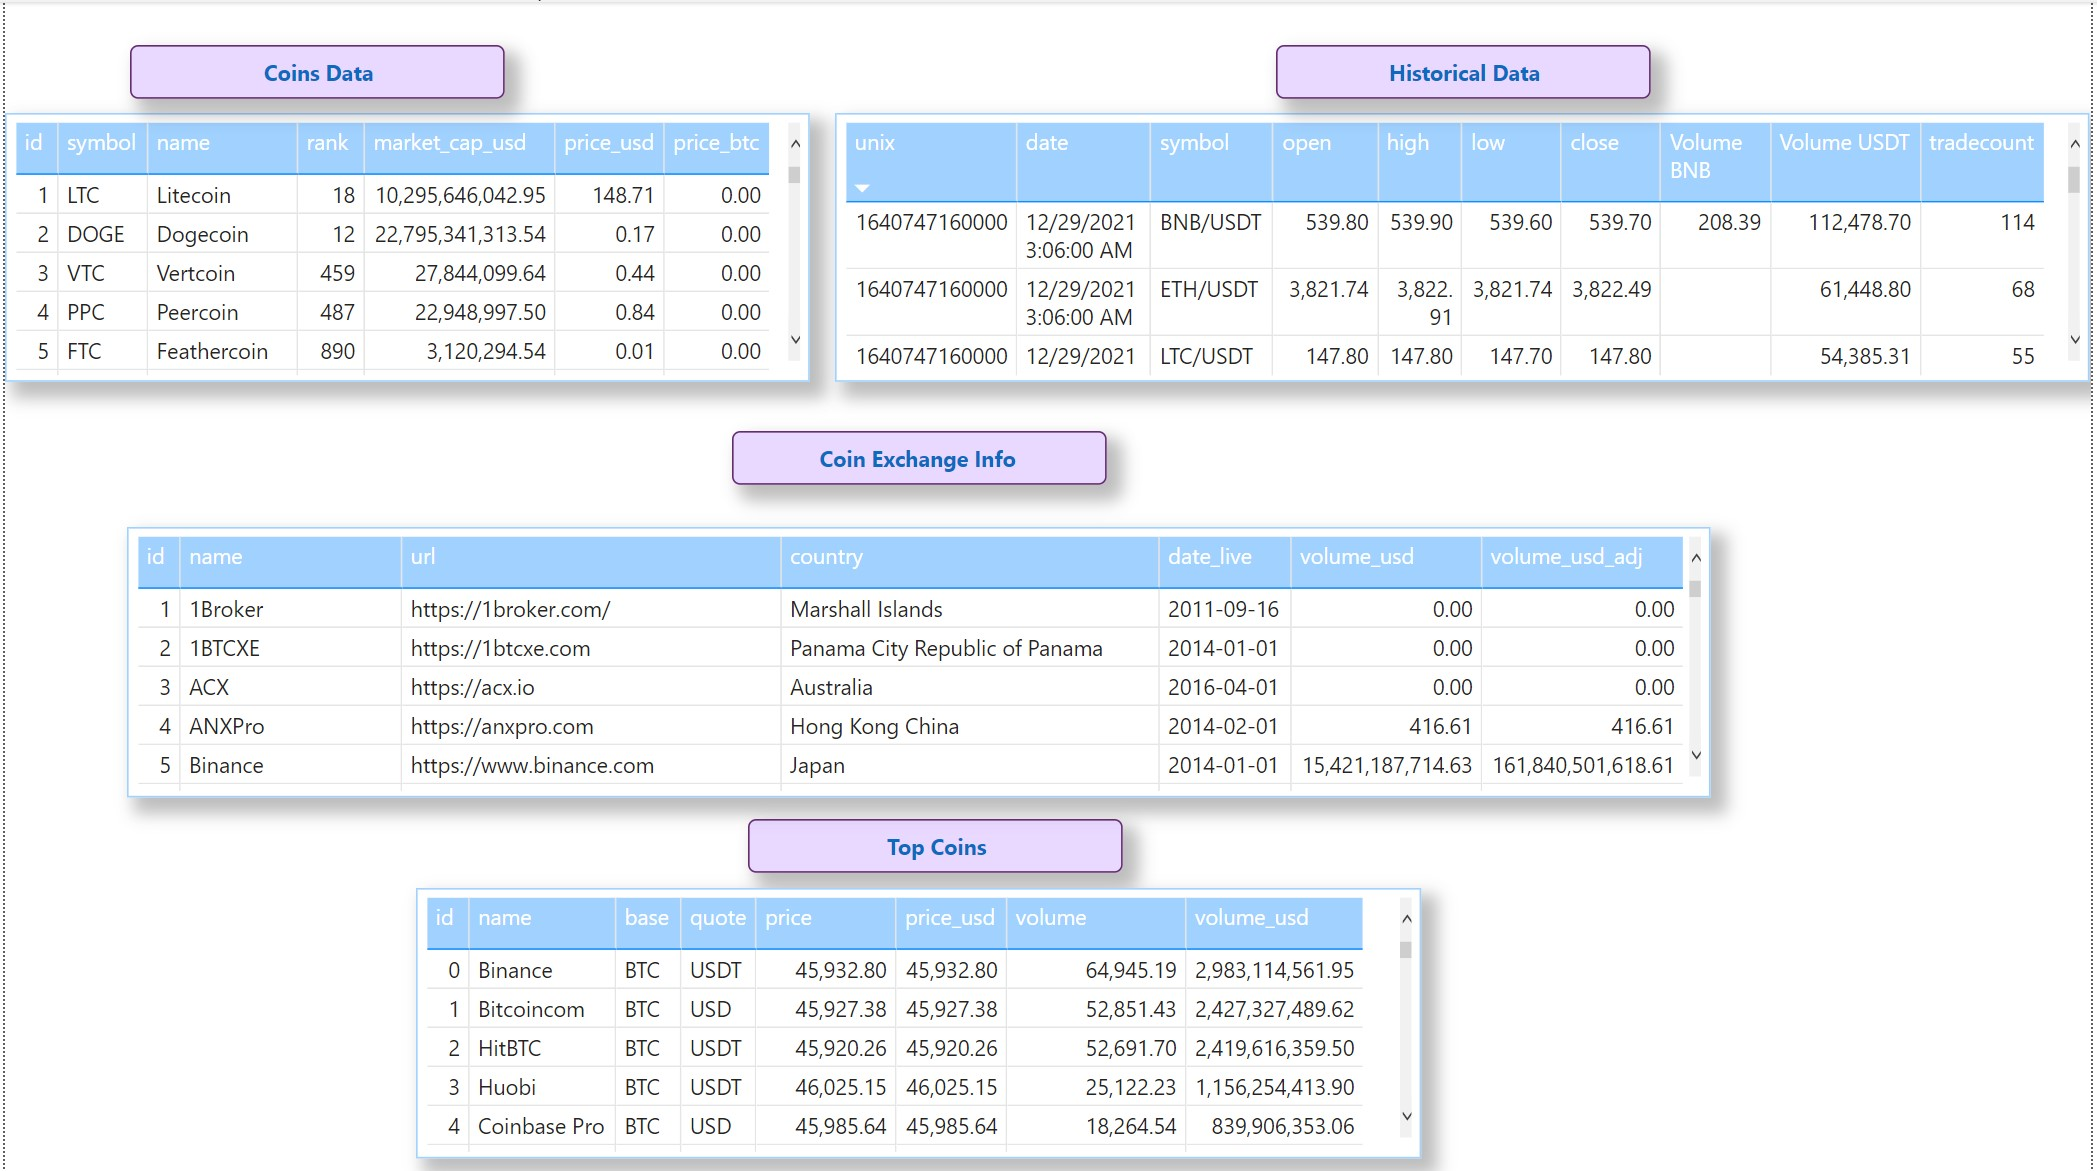

The dashboard page shown, as its layout file describes it:
{"tool":"powerbi","page":{"name":"Page 1","canvas":[1280,720],"ordinal":0},"visuals":[{"type":"tableEx","fields":{"Values":["coins_data.id","coins_data.symbol","coins_data.name","coins_data.rank","coins_data.market_cap_usd","coins_data.price_usd","coins_data.price_btc"]},"box":[0,68.1,493.5,165.1],"z":0},{"type":"textbox","box":[76.7,26.4,229.6,32.5],"z":1000},{"type":"tableEx","fields":{"Values":["historical_data.unix","historical_data.date","historical_data.symbol","historical_data.open","historical_data.high","historical_data.low","historical_data.close","historical_data.Volume BNB","historical_data.Volume USDT","historical_data.tradecount"]},"box":[509.5,68.1,770.3,165.1],"z":2000},{"type":"textbox","box":[780.2,26.4,229.6,32.5],"z":3000},{"type":"tableEx","fields":{"Values":["coin_exchange_info.id","coin_exchange_info.name","coin_exchange_info.url","coin_exchange_info.country","coin_exchange_info.date_live","coin_exchange_info.volume_usd","coin_exchange_info.volume_usd_adj"]},"box":[74.9,322.3,972.3,165.7],"z":4000},{"type":"textbox","box":[446.2,263.3,229.6,32.5],"z":5000},{"type":"textbox","box":[456.1,501.5,229.6,32.5],"z":6000},{"type":"tableEx","fields":{"Values":["top_coins.id","top_coins.name","top_coins.base","top_coins.quote","top_coins.price","top_coins.price_usd","top_coins.volume","top_coins.volume_usd"]},"box":[252.3,543.8,617.5,165.7],"z":7000}]}

Visuals, with their boxes in screenshot pixels (x1, y1, x2, y2), scaled from the page's 1280x720 canvas onto the 2097x1171 screenshot:
tableEx - coins_data.id x coins_data.symbol: <region>0, 111, 808, 379</region>
textbox: <region>126, 43, 502, 96</region>
tableEx - historical_data.unix x historical_data.date: <region>835, 111, 2096, 379</region>
textbox: <region>1278, 43, 1654, 96</region>
tableEx - coin_exchange_info.id x coin_exchange_info.name: <region>123, 524, 1716, 794</region>
textbox: <region>731, 428, 1107, 481</region>
textbox: <region>747, 816, 1123, 868</region>
tableEx - top_coins.id x top_coins.name: <region>413, 884, 1425, 1154</region>
